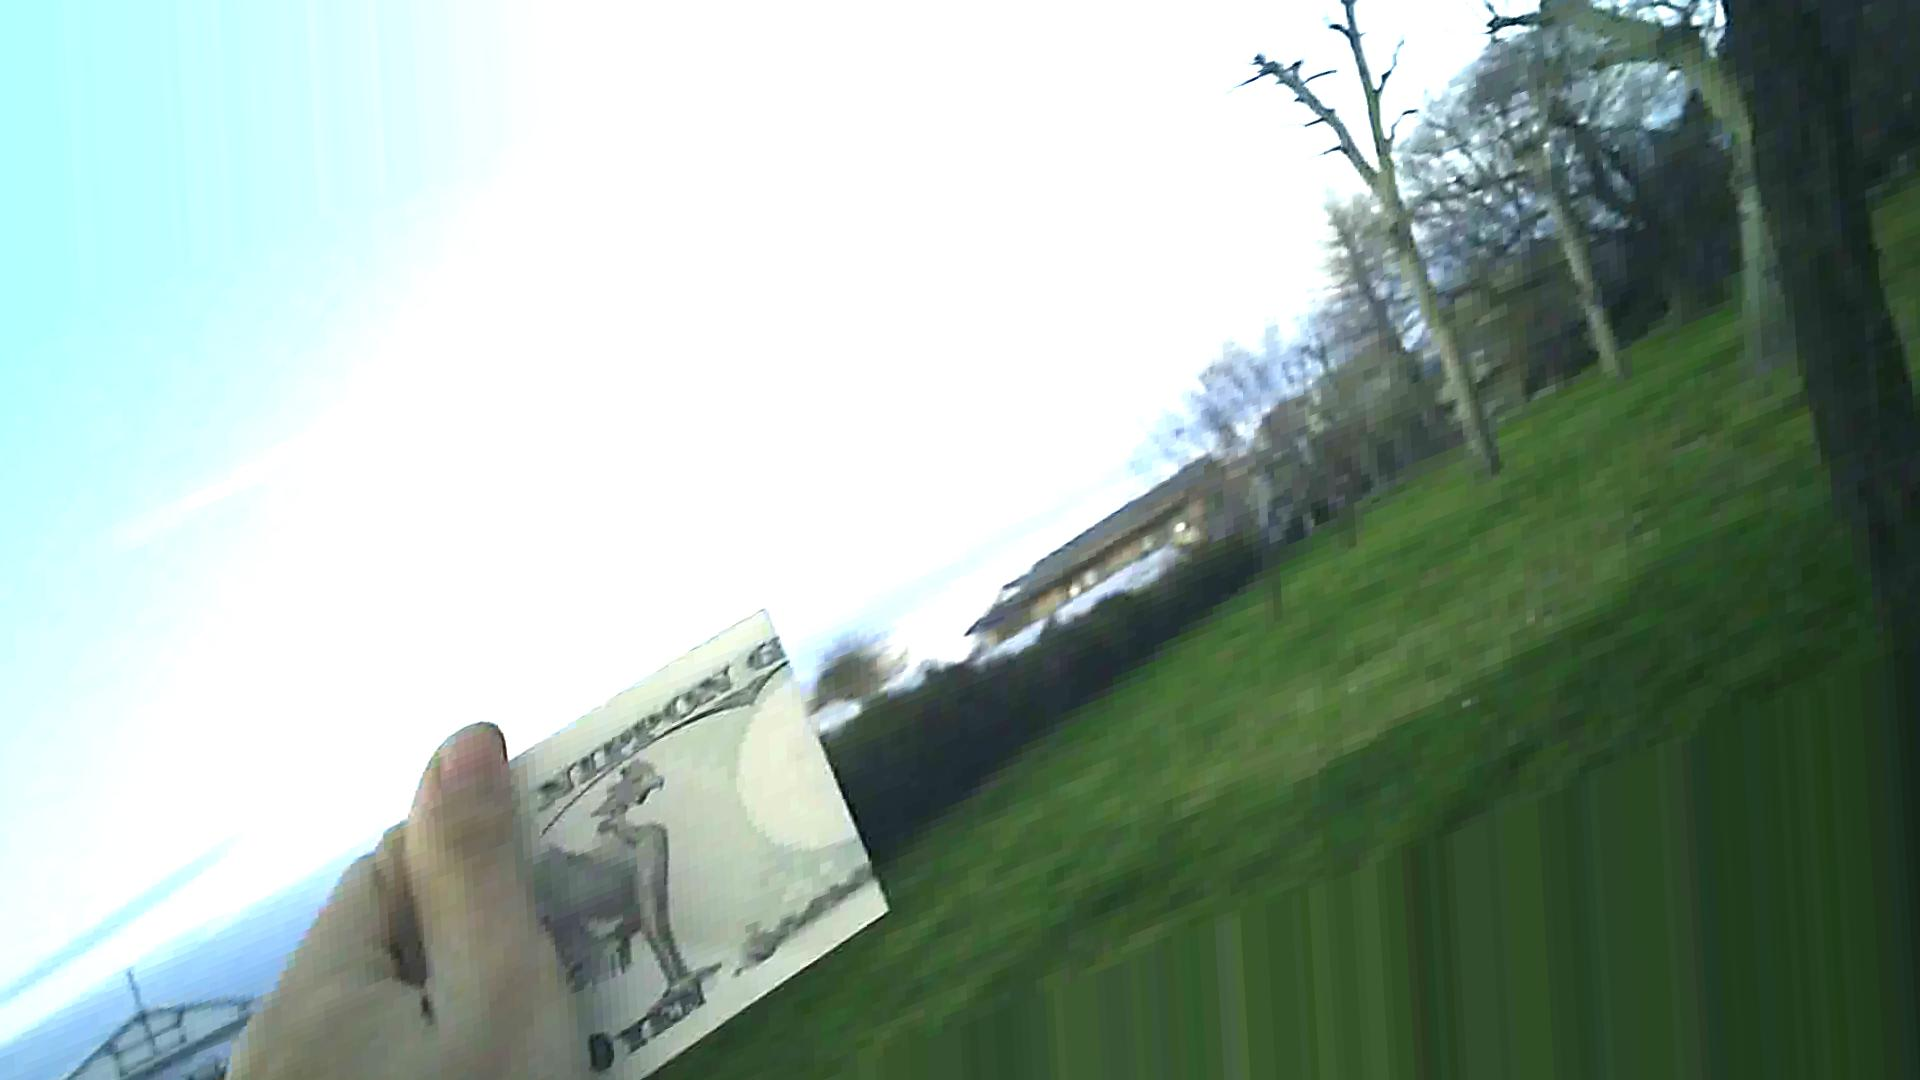10,000 Yen: (392, 618, 922, 1069)
